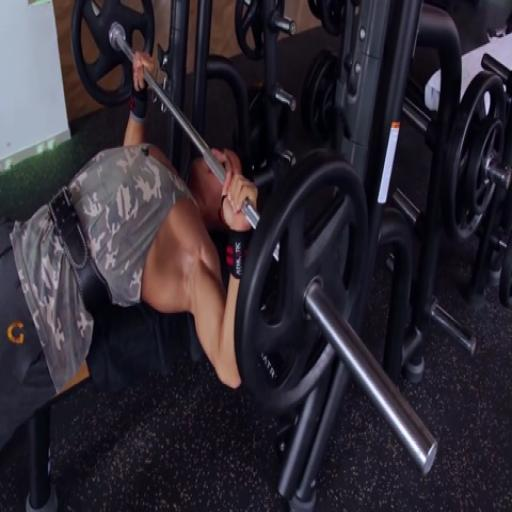exercise: (0, 48, 261, 510)
